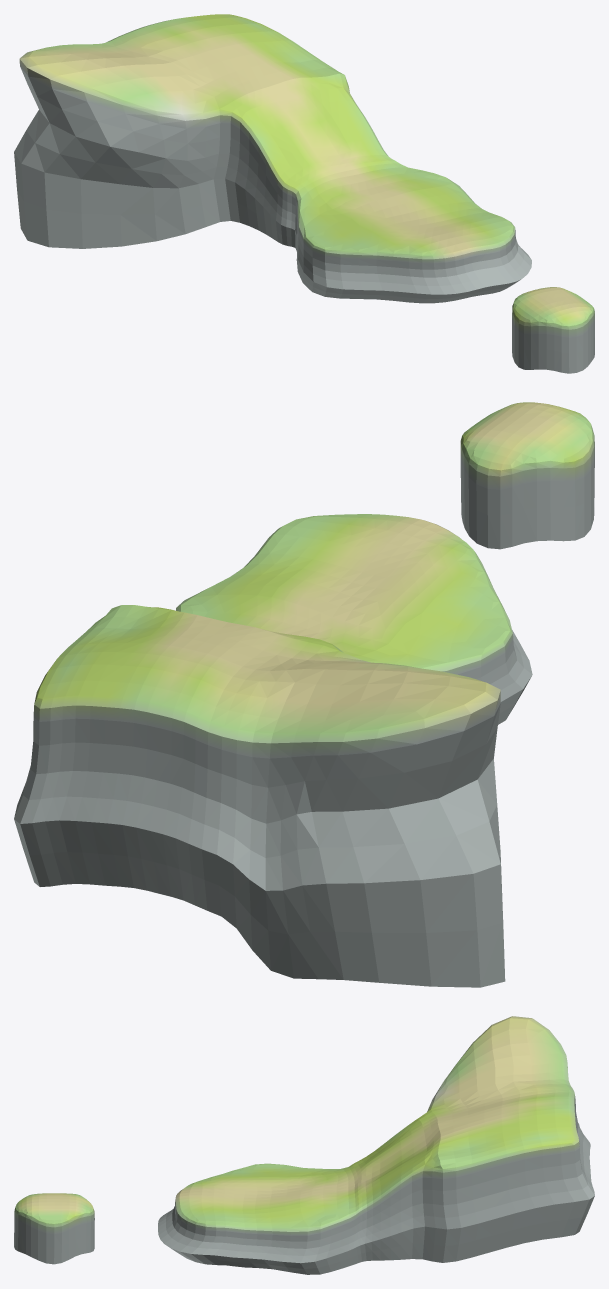
The model's file is Dio_Terrain.fbx.
3 views of the same model, one above another, from view 1: azimuth 30°, elevation 25°; view 2: azimuth 150°, elevation 25°; view 3: azimuth 270°, elevation 25° (orthographic). The views are drawn at different scales.
Visible parts, largest first — view 1: Plane.033; view 2: Plane.033; view 3: Plane.033.
Boxes of the visible parts, x1,y1,x2,y2 form: Plane.033: (14,14,594,373); Plane.033: (14,402,594,987); Plane.033: (14,1016,594,1274).
Size of the model in its own units: 2178 by 1120 by 4026.
